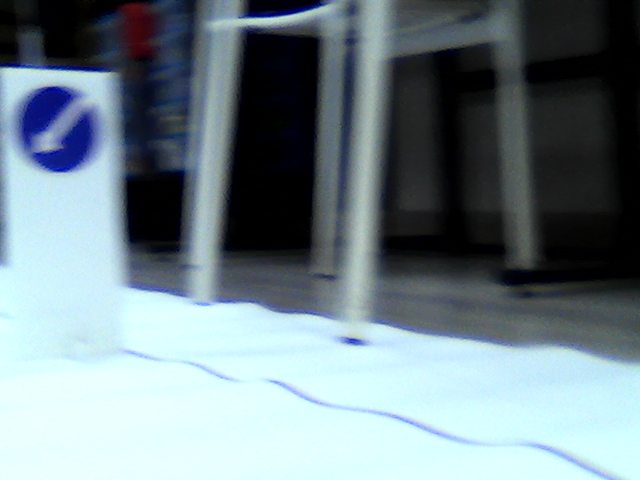prep: (19, 86, 103, 176)
